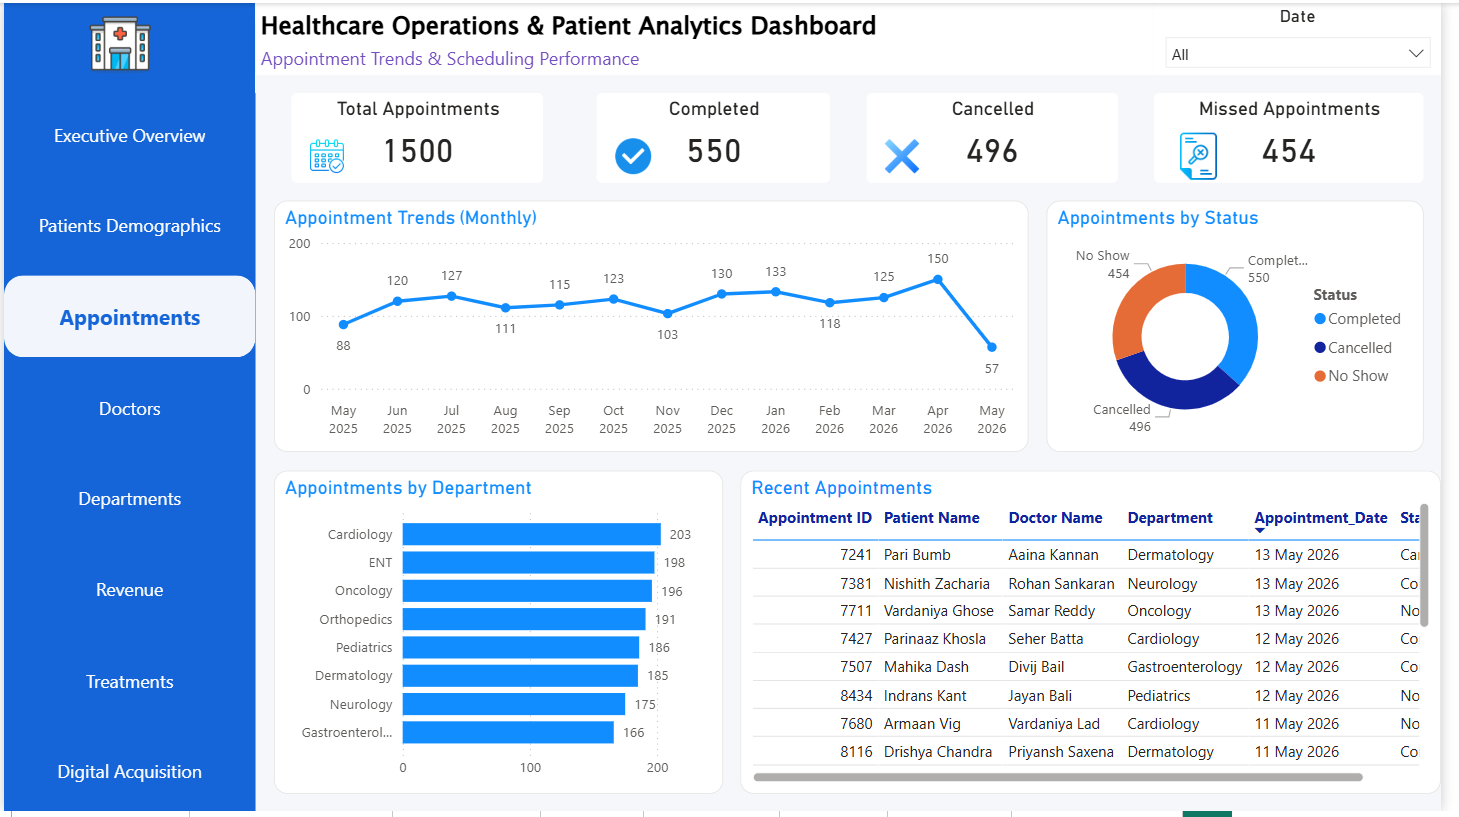

The page's visual inventory and layout, read from the dashboard file:
{"tool":"powerbi","page":{"name":"Appointments","canvas":[1280,720],"ordinal":2},"visuals":[{"type":"shape","box":[0,0,224,80],"z":0,"group":"g1"},{"type":"card","title":"Total Appointments","fields":{"Values":["CountNonNull(Appointments.Appointment_ID)"]},"box":[256,80,224,80],"z":0},{"type":"image","box":[64,0,80,64],"z":1000,"group":"g1"},{"type":"card","title":"Completed","fields":{"Values":["Appointments.Completed Appointments"]},"box":[528,80,208,80],"z":1000},{"type":"card","title":"Cancelled","fields":{"Values":["Appointments.Canceled Appointments"]},"box":[768,80,224,80],"z":2000},{"type":"card","title":"Missed Appointments","fields":{"Values":["Appointments.Missed Appointments"]},"box":[1024,80,240,80],"z":3000},{"type":"lineChart","title":"Appointment Trends (Monthly)","fields":{"Y":["Sum(vw_Monthly_Patient_Trend.Total_Visits)"],"Category":["vw_Monthly_Patient_Trend.MonthYear"]},"box":[240,176,672,224],"z":4000},{"type":"donutChart","title":"Appointments by Status","fields":{"Y":["CountNonNull(Appointments.Appointment_ID)"],"Category":["Appointments.Status"]},"box":[928,176,336,224],"z":5000},{"type":"barChart","title":"Appointments by Department","fields":{"Y":["CountNonNull(Appointments.Appointment_ID)"],"Category":["Departments.Department_Name"]},"box":[240,416,400,288],"z":6000},{"type":"tableEx","title":"Recent Appointments","fields":{"Values":["Appointments.Appointment_ID","Patients.Name","Doctors.Doctor_Name","Departments.Department_Name","Appointments.Appointment_Date Hierarchy.Appointment_Date","Appointments.Status"]},"box":[656,416,624,288],"z":7000},{"type":"pageNavigator","box":[0,80,224,640],"z":8000},{"type":"group","id":"g1","title":"Group 1","box":[0,0,224,80],"z":9000},{"type":"textbox","box":[224,0,800,64],"z":10000},{"type":"slicer","title":"Date","fields":{"Values":["Date.Month_Name"]},"box":[1024,0,256,64],"z":11000},{"type":"image","box":[272,112,32,48],"z":12000},{"type":"image","box":[544,112,32,48],"z":13000},{"type":"image","box":[784,112,32,48],"z":14000},{"type":"image","box":[1040,112,48,48],"z":15000}]}

Visuals, with their boxes on the page's 1280x720 design canvas (x1, y1, x2, y2). These are canvas units, not pixel positions in the 1459x817 screenshot, which may show the page scaled, cropped or inside an application window:
shape: x1=0, y1=0, x2=224, y2=80
"Total Appointments" card: x1=256, y1=80, x2=480, y2=160
image: x1=64, y1=0, x2=144, y2=64
"Completed" card: x1=528, y1=80, x2=736, y2=160
"Cancelled" card: x1=768, y1=80, x2=992, y2=160
"Missed Appointments" card: x1=1024, y1=80, x2=1264, y2=160
"Appointment Trends (Monthly)" lineChart: x1=240, y1=176, x2=912, y2=400
"Appointments by Status" donutChart: x1=928, y1=176, x2=1264, y2=400
"Appointments by Department" barChart: x1=240, y1=416, x2=640, y2=704
"Recent Appointments" tableEx: x1=656, y1=416, x2=1280, y2=704
pageNavigator: x1=0, y1=80, x2=224, y2=720
"Group 1" group: x1=0, y1=0, x2=224, y2=80
textbox: x1=224, y1=0, x2=1024, y2=64
"Date" slicer: x1=1024, y1=0, x2=1280, y2=64
image: x1=272, y1=112, x2=304, y2=160
image: x1=544, y1=112, x2=576, y2=160
image: x1=784, y1=112, x2=816, y2=160
image: x1=1040, y1=112, x2=1088, y2=160
